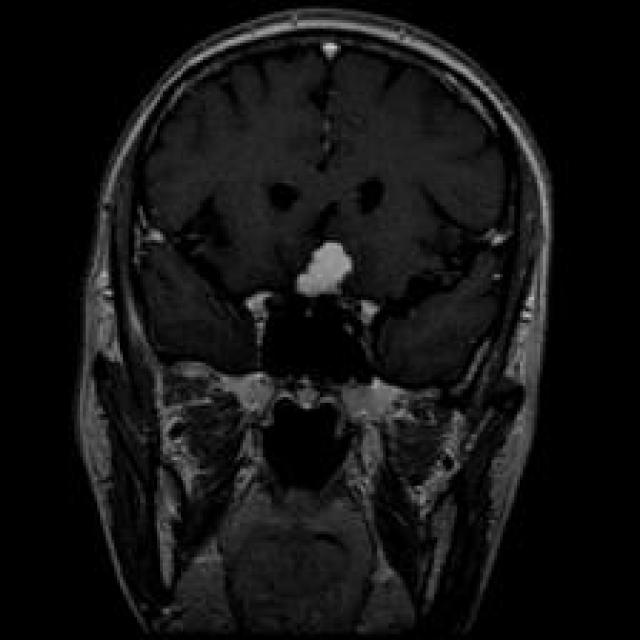meningioma_tumor: (286, 230, 367, 315)
